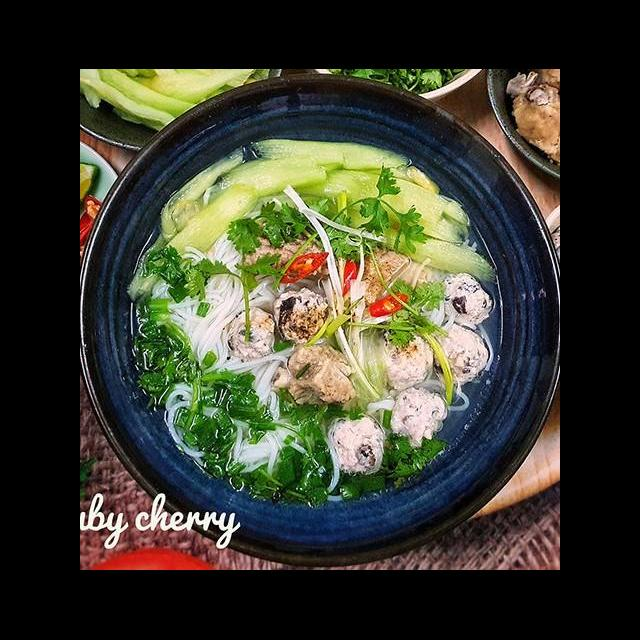bun: (152, 236, 243, 374), (228, 412, 311, 476), (230, 351, 299, 412)
vien moc: (318, 408, 390, 476), (378, 324, 441, 399), (424, 320, 491, 388), (383, 386, 452, 450), (270, 282, 333, 348), (436, 270, 496, 338), (223, 304, 282, 366)
